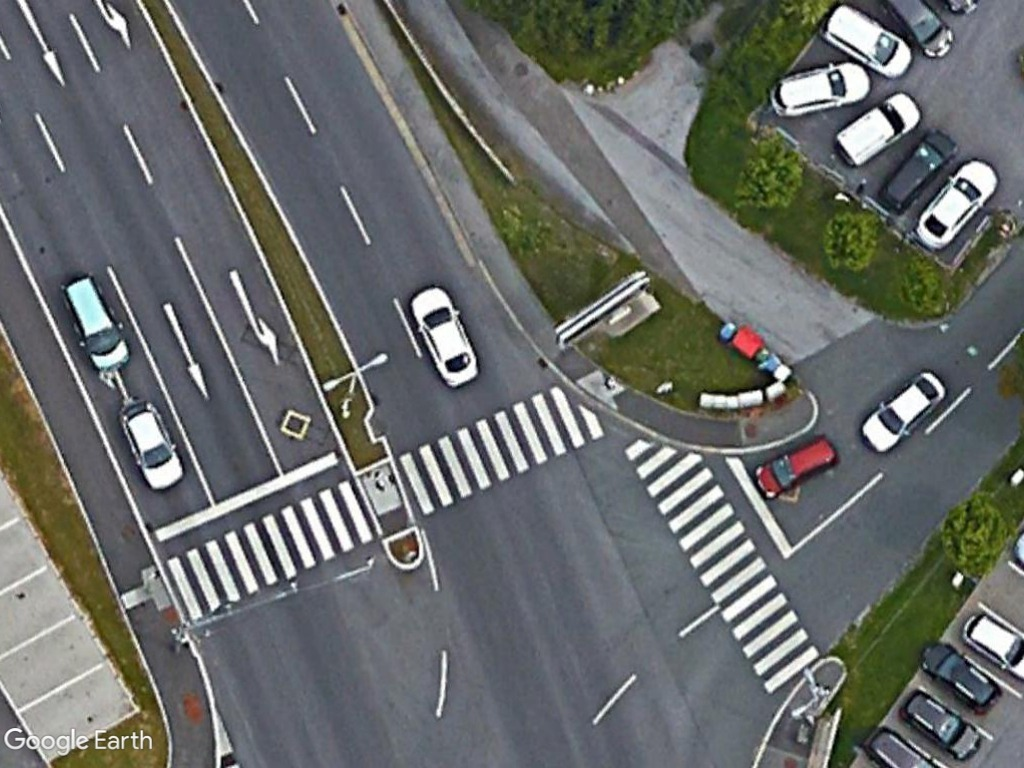car: (910, 154, 1005, 251), (827, 89, 929, 175), (404, 283, 484, 392), (873, 122, 962, 219), (854, 367, 948, 455), (56, 268, 132, 376), (893, 683, 990, 766), (814, 5, 919, 80), (915, 633, 1002, 719), (115, 397, 188, 496), (761, 56, 874, 119), (749, 429, 845, 503)
